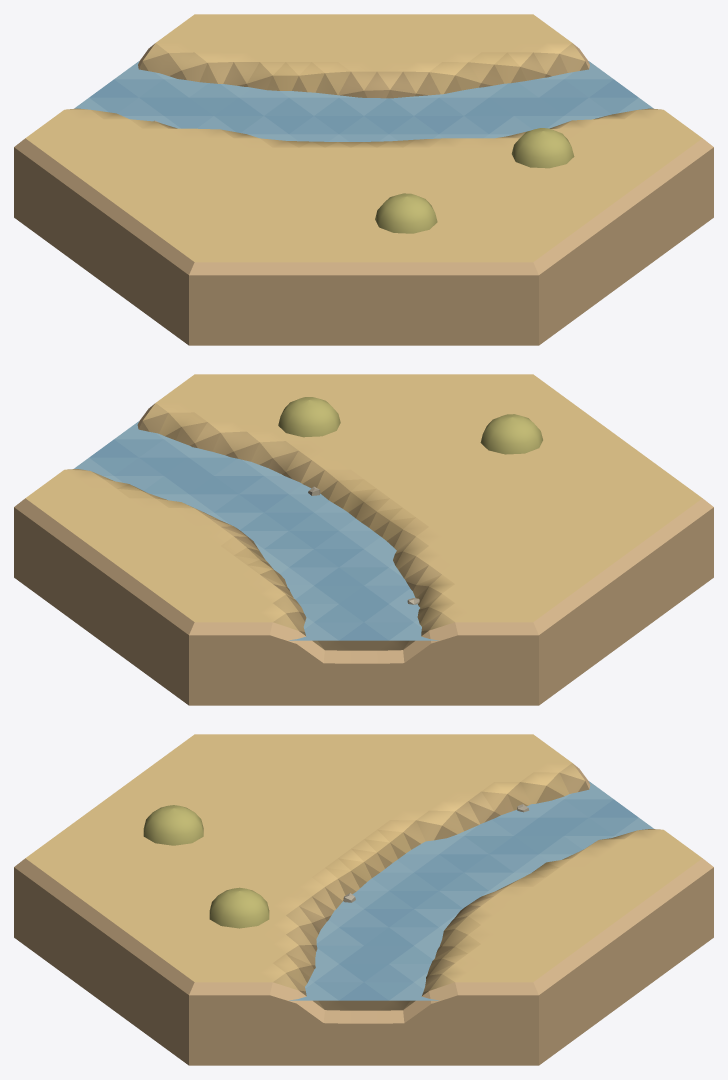
The model's file is river_bend_dry_2.fbx.
3 views of the same model, one above another, from view 1: azimuth 30°, elevation 25°; view 2: azimuth 150°, elevation 25°; view 3: azimuth 270°, elevation 25° (orthographic).
Parts seen in each view (by area): view 1: river_bend_dry_2; view 2: river_bend_dry_2; view 3: river_bend_dry_2.
Part boxes in pixels (<box>): river_bend_dry_2: <box>14,14,713,345</box>; river_bend_dry_2: <box>14,374,713,705</box>; river_bend_dry_2: <box>14,734,713,1065</box>.
Size of the model in its own units: 1.73 by 0.3265 by 2.
